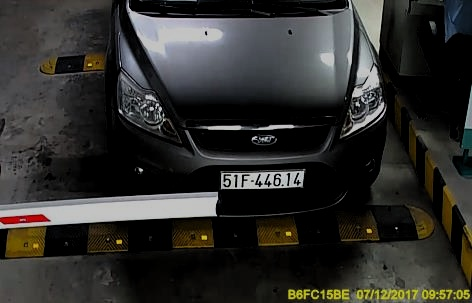plate: (212, 168, 312, 193)
